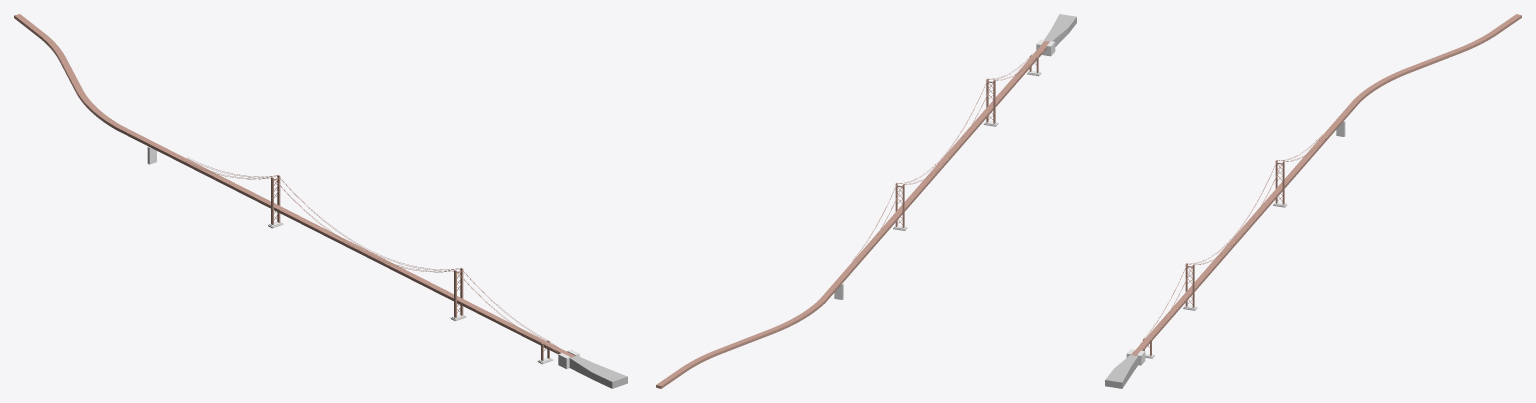
The model's file is ponte_25_abril_l1.glb.
3 views of the same model, side by side, from view 1: azimuth 30°, elevation 25°; view 2: azimuth 150°, elevation 25°; view 3: azimuth 330°, elevation 25° (orthographic). The views are drawn at different scales.
Visible parts, largest first — view 1: Geom3D (×5); view 2: Geom3D (×5); view 3: Geom3D (×5).
Boxes of the visible parts, left/top/right/bottom form: Geom3D (×5): left=14, top=14, right=627, bottom=388; Geom3D (×5): left=656, top=14, right=1076, bottom=388; Geom3D (×5): left=1105, top=14, right=1521, bottom=388.
Size of the model in its own units: 529 by 191 by 3714.
